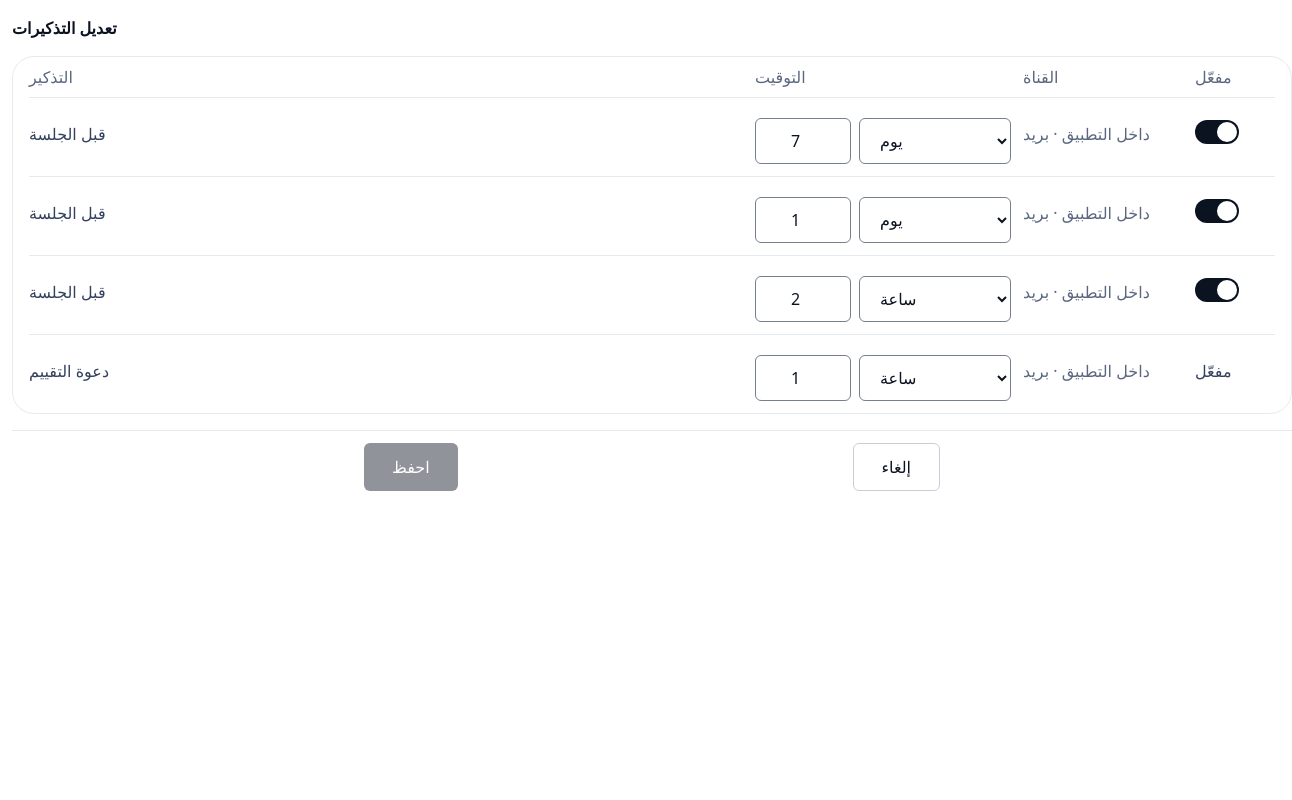
RemindersEdit › an empty receipt says «لم يتغيّر شيء», never «حُفظ»
Step 1. Replace the text in the 1st number field with "8" → (803, 141), box left=755, top=118, right=851, bottom=164
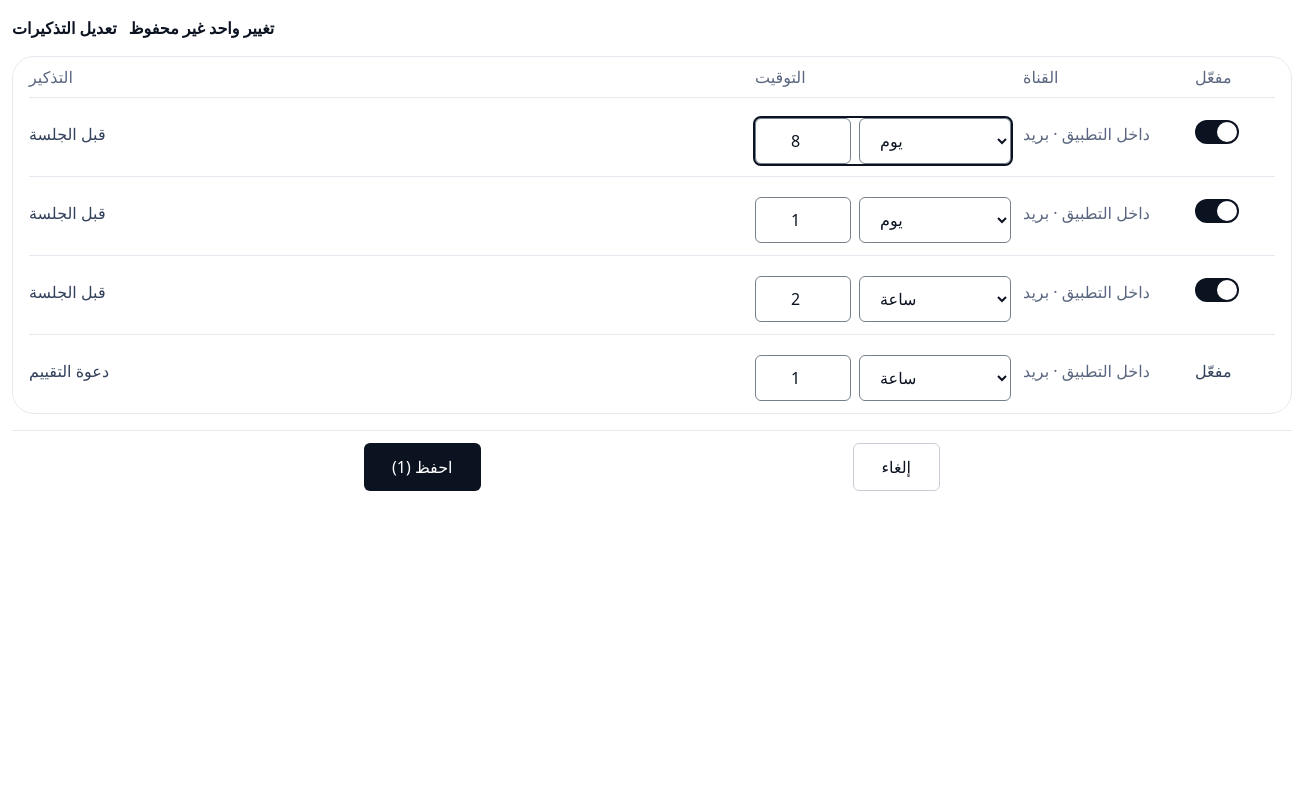
Step 2. Replace the text in the 1st number field with "7" → (803, 141), box left=755, top=118, right=851, bottom=164
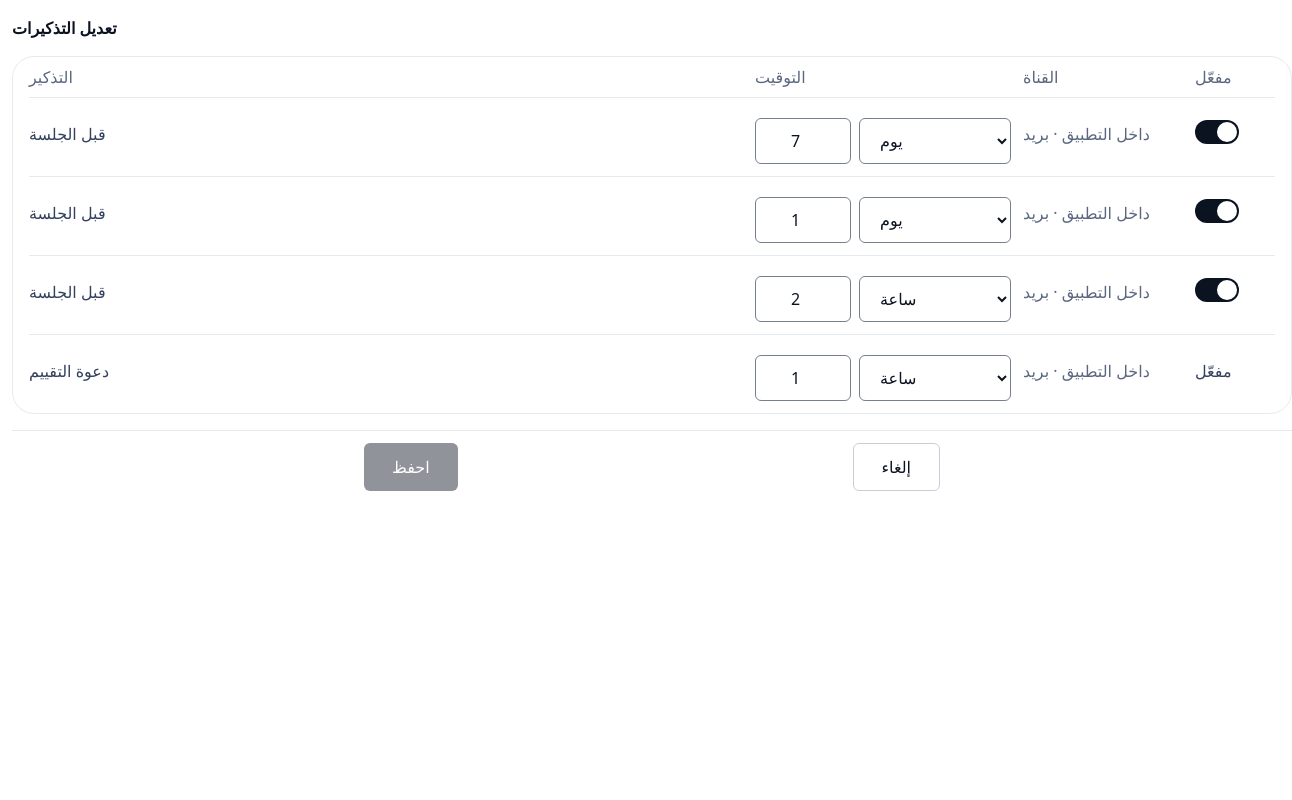
Step 3. Submit the form named "احفظ", box left=12, top=56, right=1291, bottom=507
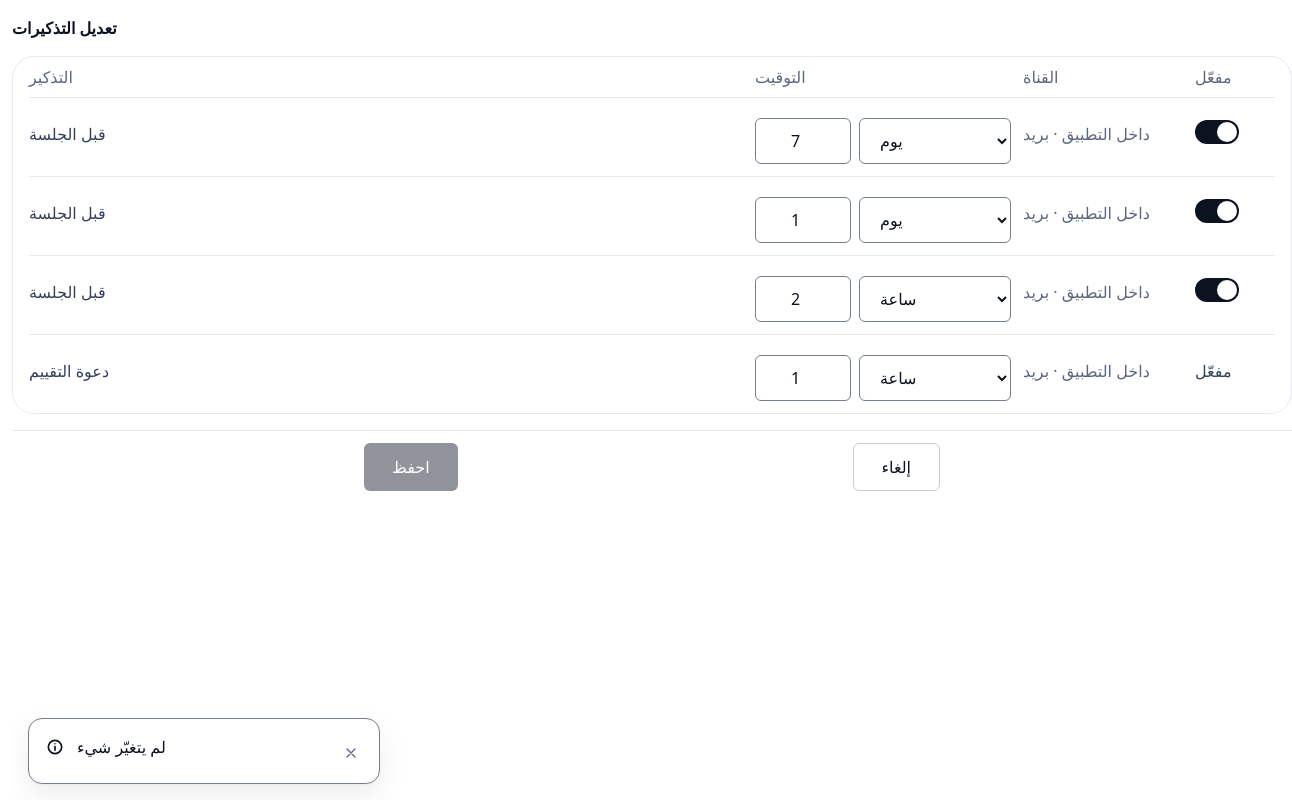
Check: the text "لم يتغيّر شيء" is shown, box left=77, top=736, right=166, bottom=758
